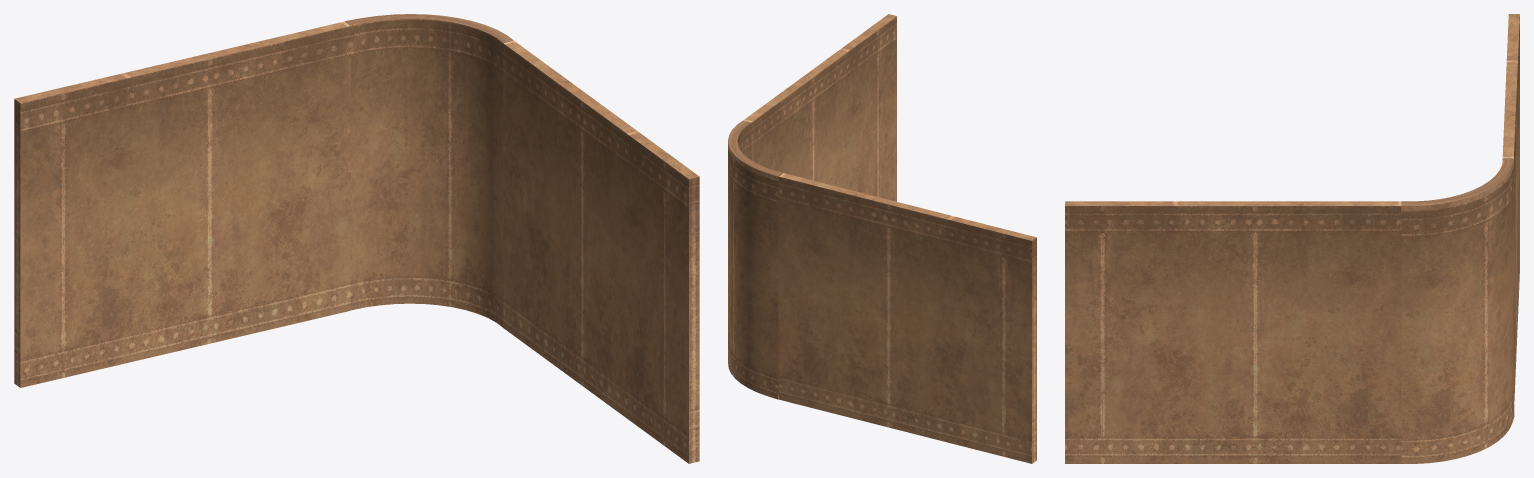
File: Wall_1_C.fbx
3 renders of one model, left to right at view 1: azimuth 30°, elevation 25°; view 2: azimuth 150°, elevation 25°; view 3: azimuth 270°, elevation 25°, orthographic. The views are drawn at different scales.
Parts seen in each view (by area): view 1: Wall_1_C; view 2: Wall_1_C; view 3: Wall_1_C.
Part boxes in pixels (<box>): Wall_1_C: <box>14,14,699,463</box>; Wall_1_C: <box>728,14,1036,463</box>; Wall_1_C: <box>1065,14,1519,463</box>.
Bounding box in the file's own units: 4.05 × 2.53 × 4.05.
